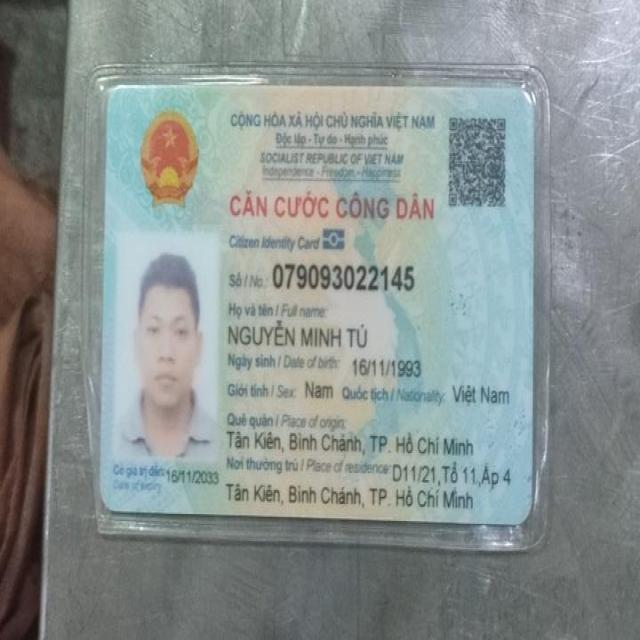bottom_left: (89, 480, 131, 524)
bottom_right: (502, 492, 546, 540)
image_person: (115, 235, 224, 464)
top_left: (98, 76, 138, 119)
top_right: (499, 76, 546, 122)
